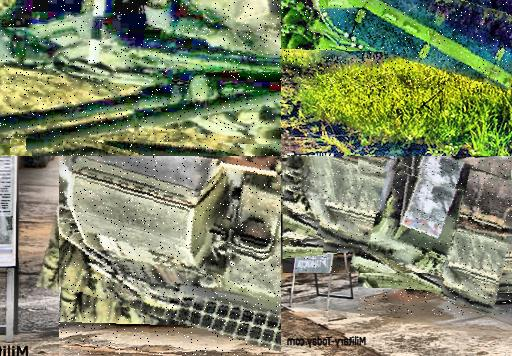tanks: (60, 157, 282, 353), (1, 1, 282, 137), (360, 157, 512, 316), (282, 1, 512, 90), (283, 171, 459, 274), (11, 119, 282, 156), (208, 5, 282, 107), (217, 1, 282, 28)
